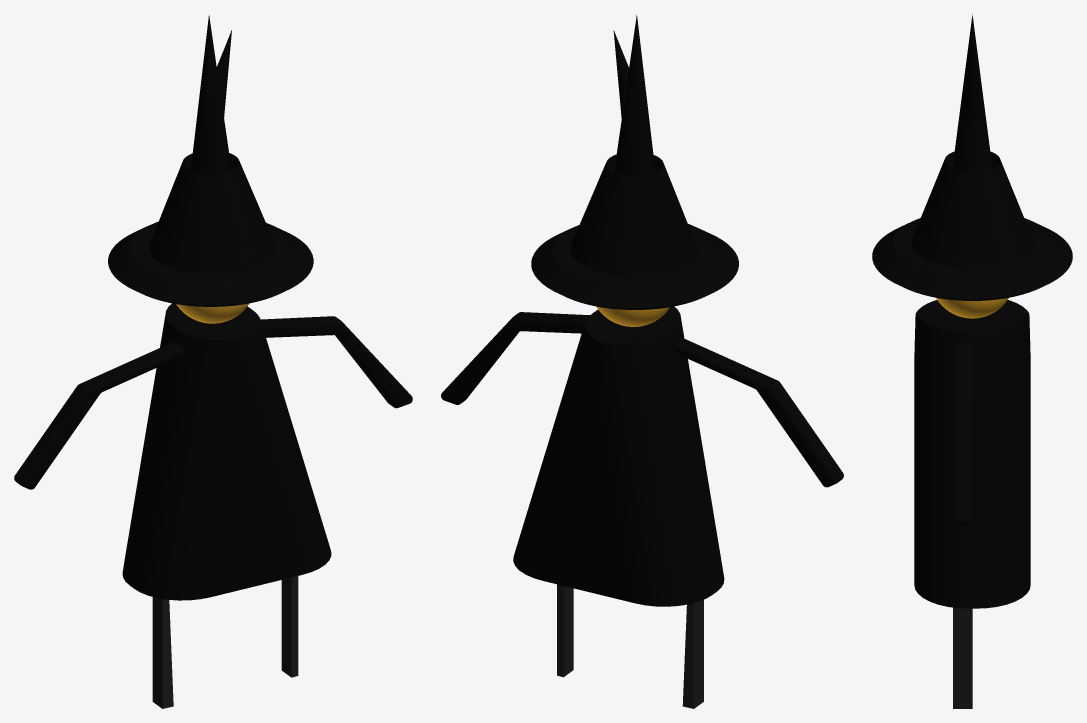
Rendered from mage v1.fbx.
3 renders of one model, left to right at view 1: azimuth 30°, elevation 25°; view 2: azimuth 150°, elevation 25°; view 3: azimuth 270°, elevation 25°, orthographic. The views are drawn at different scales.
Parts seen in each view (by area): view 1: Body3, Body2, Body6, Body7, Body5; view 2: Body3, Body2, Body6, Body7, Body5; view 3: Body3, Body2, Body7, Body5.
Part boxes in pixels (<box>): Body3: <box>14,303,412,600</box>; Body2: <box>108,15,313,306</box>; Body6: <box>152,597,173,708</box>; Body7: <box>281,576,298,677</box>; Body5: <box>176,303,249,323</box>; Body3: <box>441,306,843,606</box>; Body2: <box>531,15,738,309</box>; Body6: <box>682,599,703,708</box>; Body7: <box>557,584,573,677</box>; Body5: <box>596,306,669,326</box>; Body3: <box>914,300,1030,608</box>; Body2: <box>872,14,1072,300</box>; Body7: <box>953,607,972,708</box>; Body5: <box>936,297,1008,318</box>.
Size of the model in its own units: 228 by 374 by 103.
